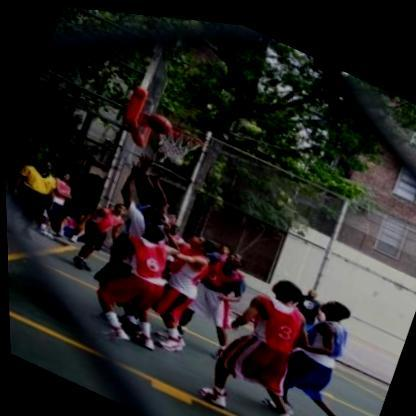basketball: (139, 102, 177, 138)
